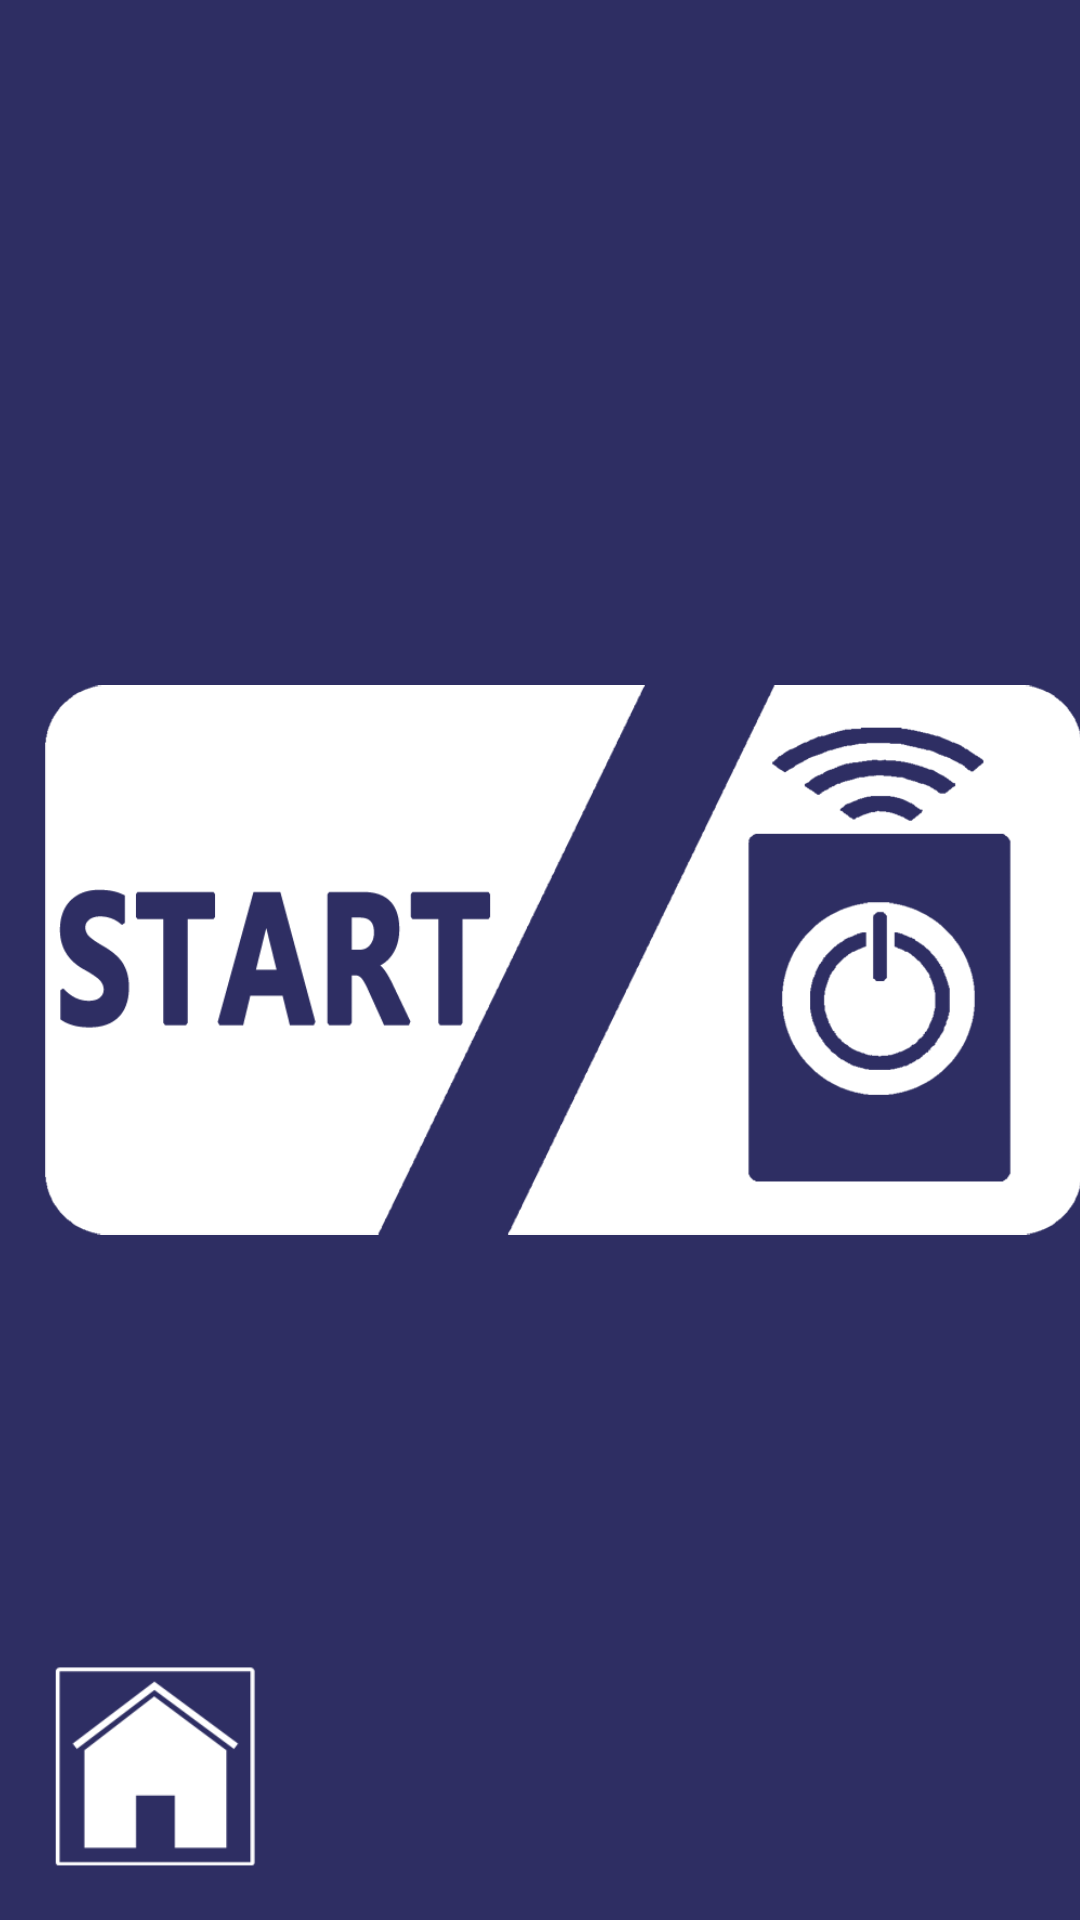

Screen size 1080×1920. Icon name, then its center in pixels as (x=x, y=y):
home: (x=155, y=1766)
